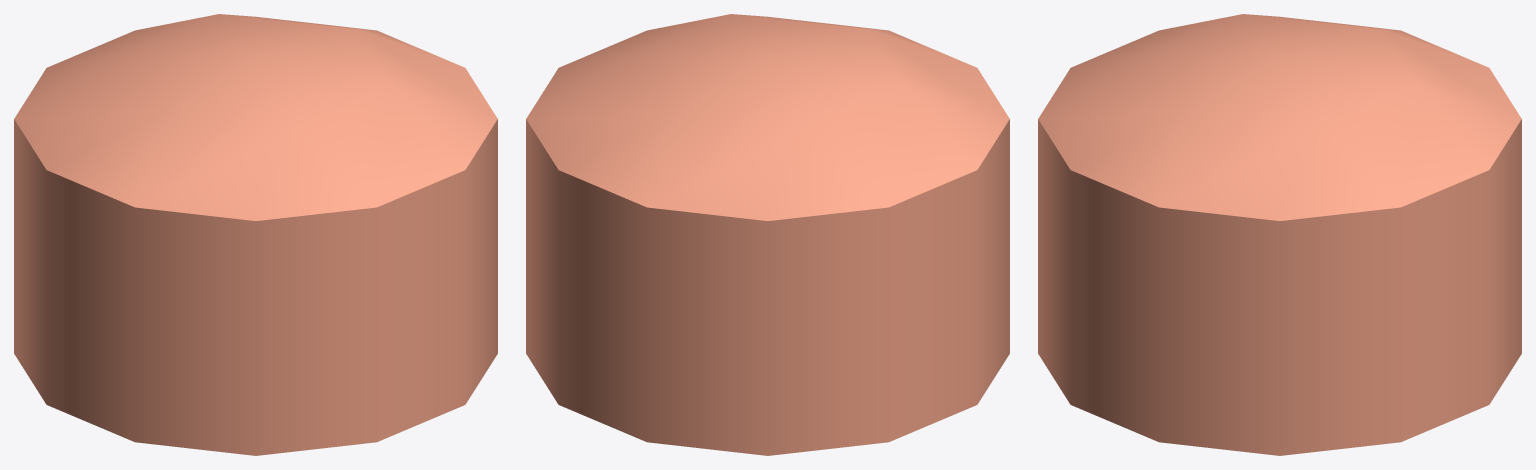
Rendered from ottoman_012.glb.
3 renders of one model, left to right at view 1: azimuth 30°, elevation 25°; view 2: azimuth 150°, elevation 25°; view 3: azimuth 270°, elevation 25°, orthographic.
Visible parts, largest first — view 1: ottoman_012; view 2: ottoman_012; view 3: ottoman_012.
Boxes of the visible parts, x1,y1,x2,y2 form: ottoman_012: (14, 14, 497, 455); ottoman_012: (526, 14, 1009, 455); ottoman_012: (1038, 14, 1521, 455).
Bounding box in the file's own units: 0.6331 × 0.4275 × 0.6331.
1 material, 1 textured.
